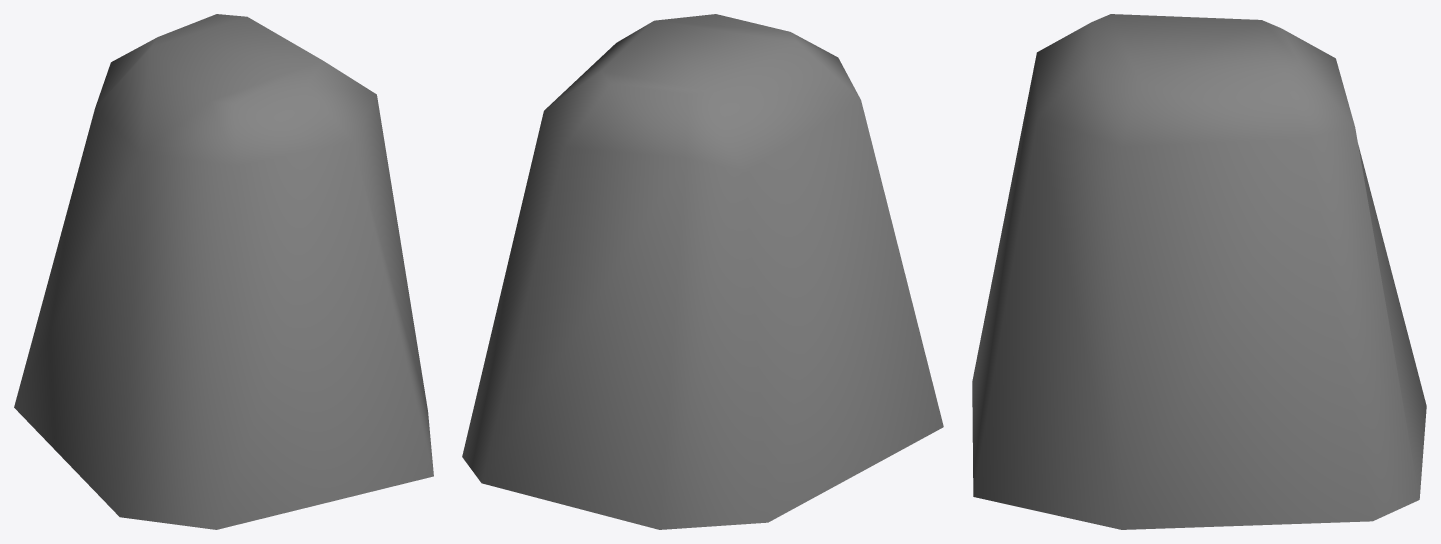
Rendered from shi06.FBX.
The picture shows the model from 3 angles, left to right: view 1: azimuth 30°, elevation 25°; view 2: azimuth 150°, elevation 25°; view 3: azimuth 270°, elevation 25°; orthographic projection. The views are drawn at different scales.
Visible parts, largest first — view 1: shi06; view 2: shi06; view 3: shi06.
Part boxes in pixels (left/top/right/bottom): shi06: left=14, top=14, right=433, bottom=529; shi06: left=462, top=14, right=943, bottom=529; shi06: left=972, top=14, right=1426, bottom=529.
Size of the model in its own units: 302 by 312 by 323.
